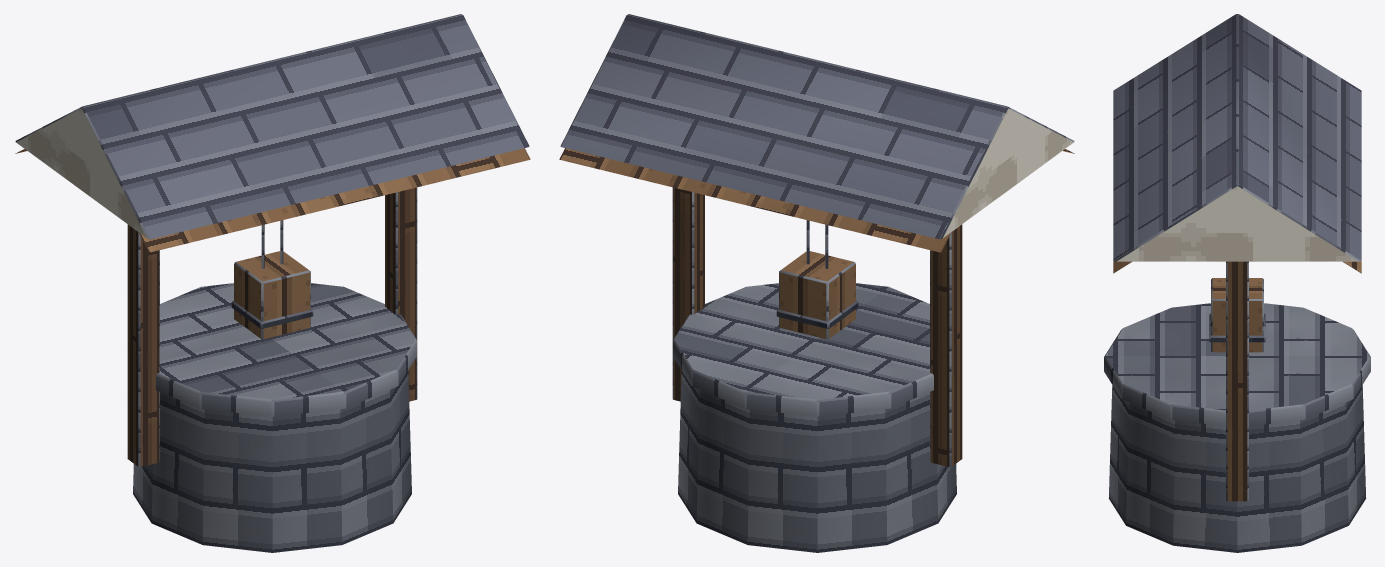
Rendered from well_0.glb.
3 views of the same model, side by side, from view 1: azimuth 30°, elevation 25°; view 2: azimuth 150°, elevation 25°; view 3: azimuth 270°, elevation 25° (orthographic). The views are drawn at different scales.
Parts seen in each view (by area): view 1: well_1; view 2: well_1; view 3: well_1.
Boxes of the visible parts, x1,y1,x2,y2 form: well_1: (15,14,530,552); well_1: (559,14,1074,552); well_1: (1104,14,1370,552).
Bounding box in the file's own units: 2.45 × 2.66 × 1.61.
7 materials, 7 textured.
